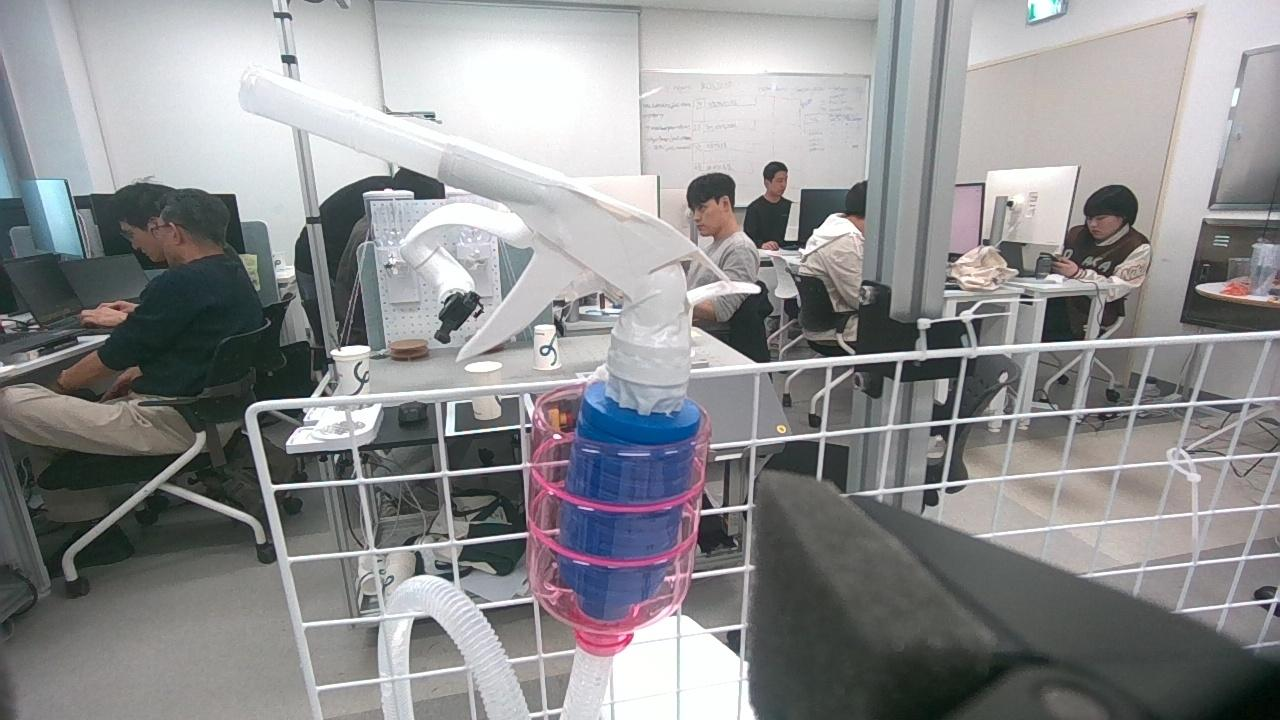Nozzle: (435, 133, 723, 600)
